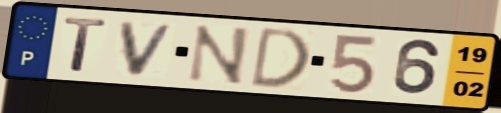5: (326, 31, 382, 95)
6: (391, 37, 442, 99)
D: (247, 24, 314, 90)
N: (184, 23, 253, 87)
T: (60, 15, 111, 75)
V: (117, 20, 180, 78)
